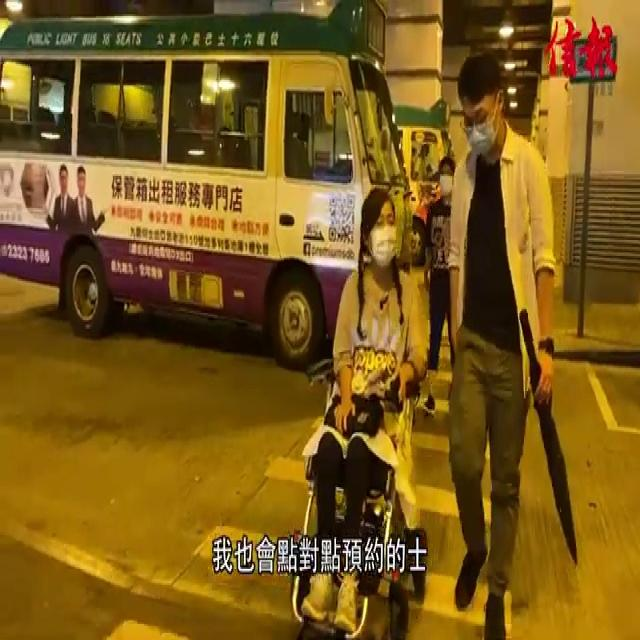wheelchairs: (286, 330, 440, 640)
